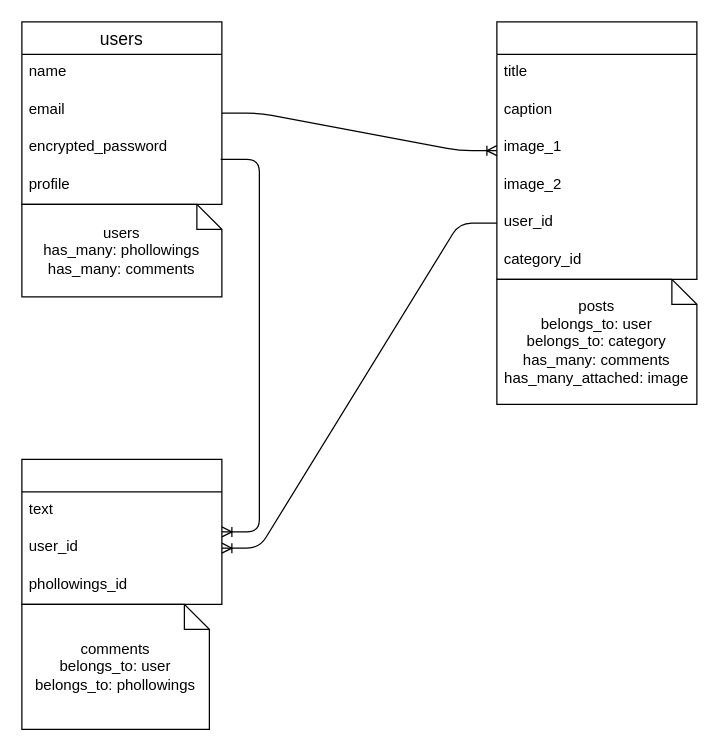
Image size: 719x751. Some labels were removed from this diagram. Each missing label, with the box of its shape:
comments: (21, 458, 222, 604)
posts: (496, 21, 697, 279)
